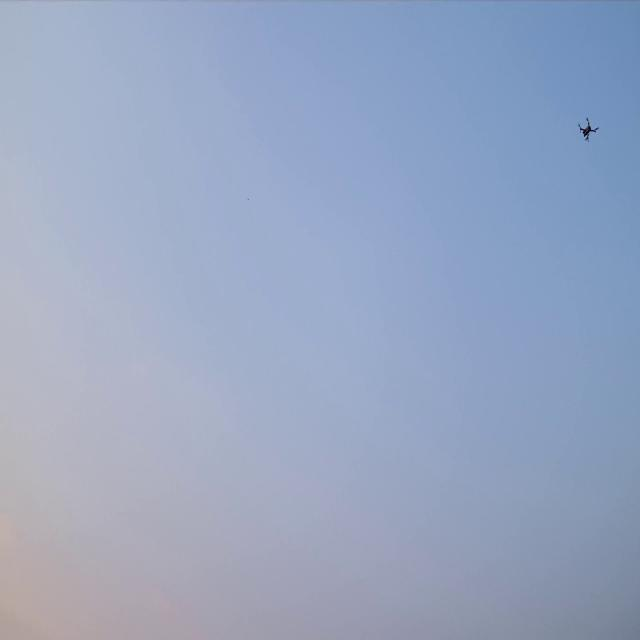UAV: (580, 119, 597, 141)
